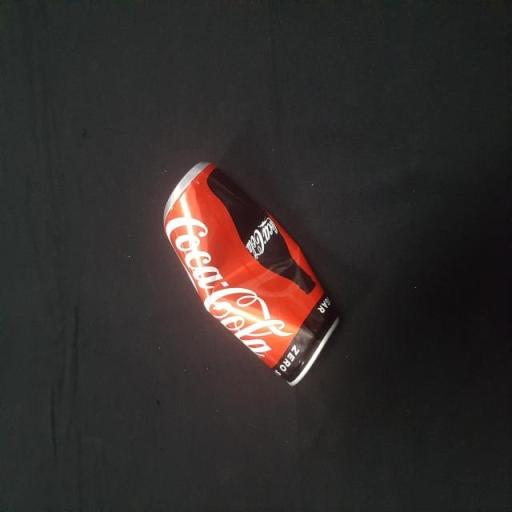metal: (156, 140, 358, 413)
